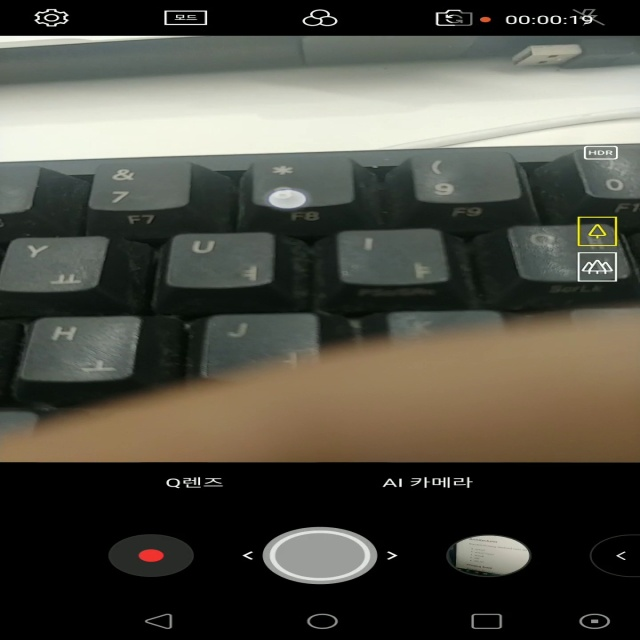Cursor: (265, 189, 310, 211)
